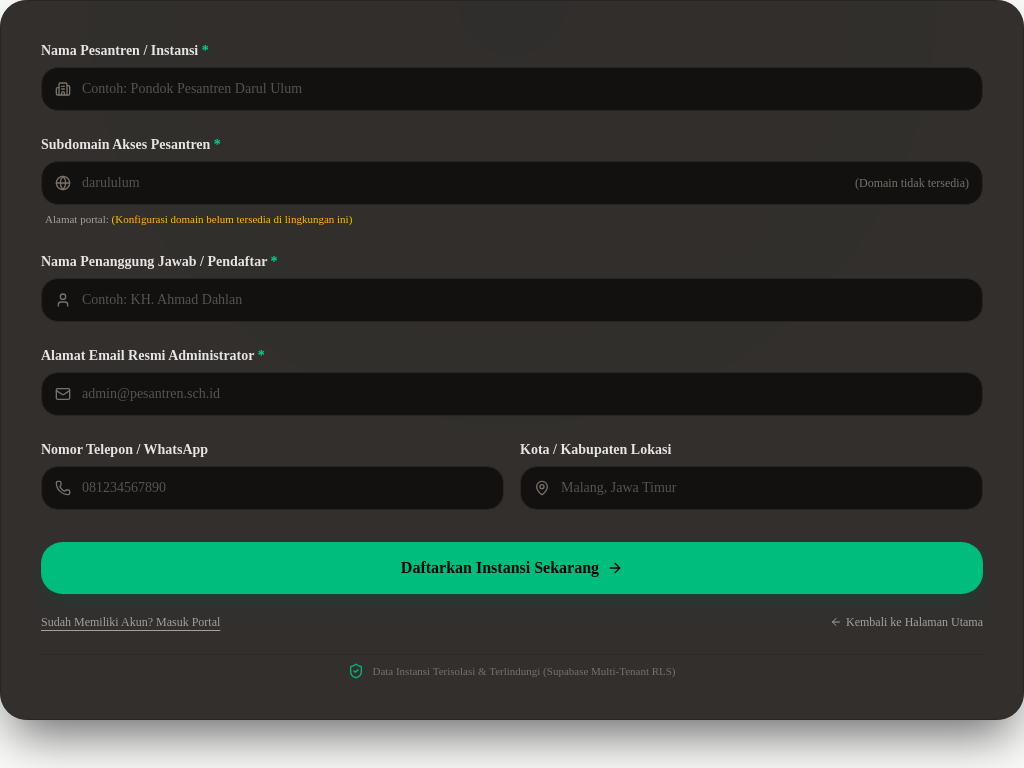
Scenario: WP-SAAS-REGISTRATION-IMPLEMENTATION-001 — Mobile-First Registration UI Tests › 4. Displays error alert when server returns 409 Conflict (e.g. duplicate slug)
Type "Pesantren Al-Hikmah" into the field labelled "Nama Pesantren / Instansi *" at (512, 89), box [41, 67, 983, 111]
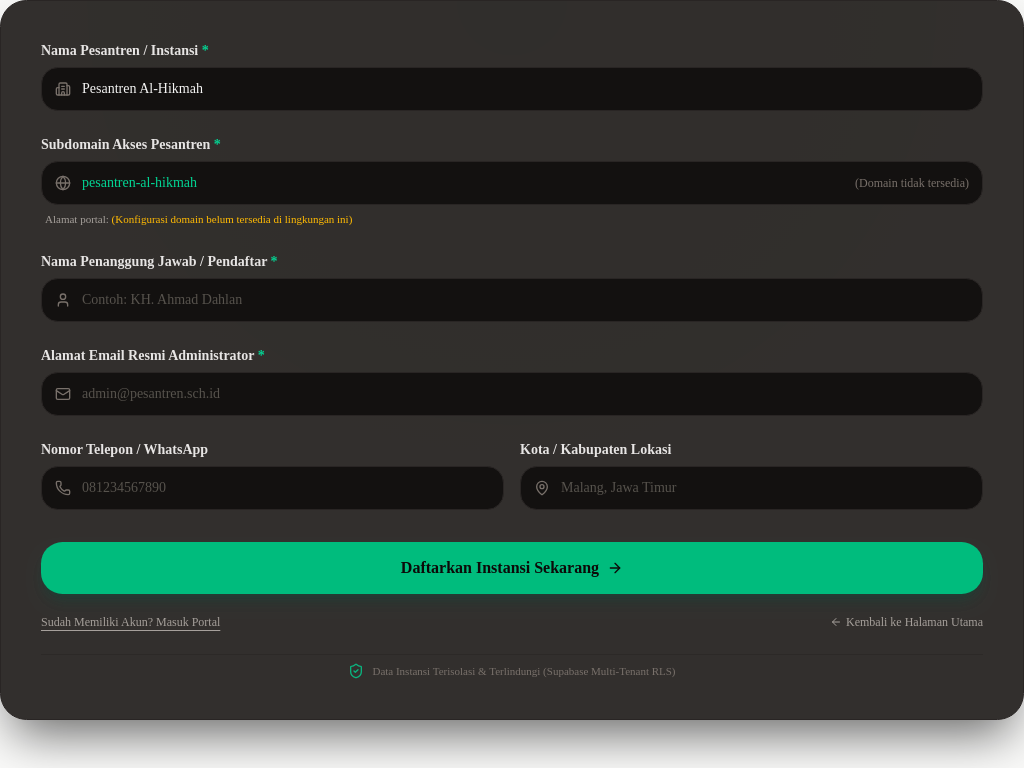
Replace the text in the field labelled "Subdomain Akses Pesantren *" with "alhikmah" at (512, 183), box [41, 161, 983, 205]
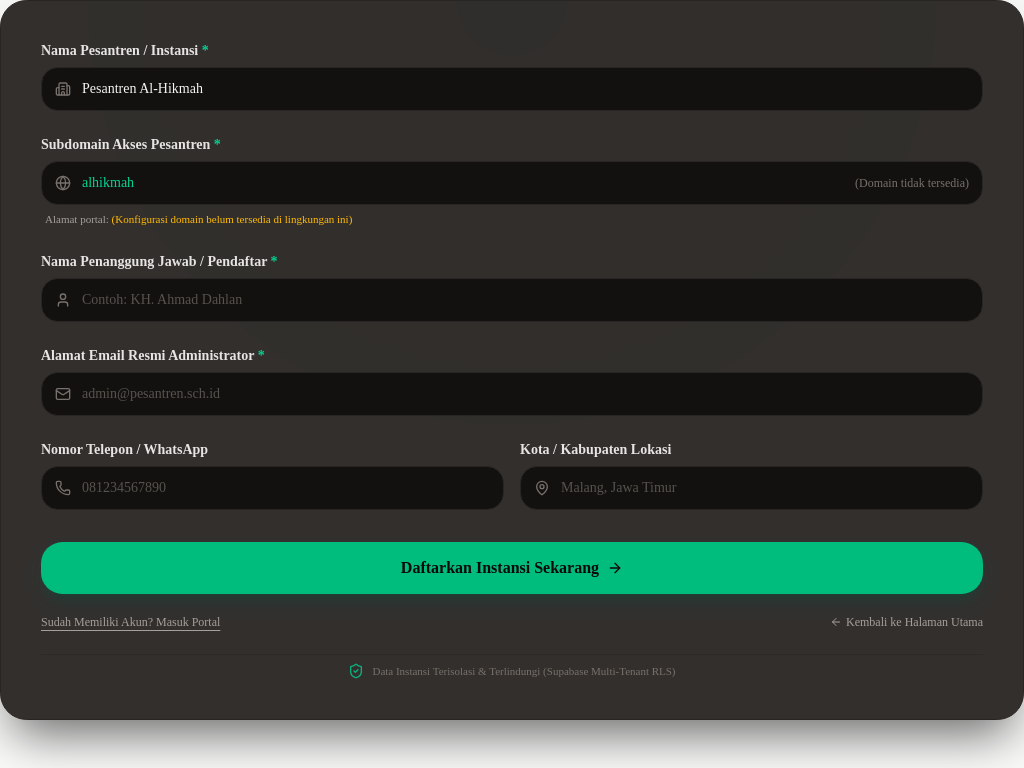
Type "Ustadz Ahmad" into the field labelled "Nama Penanggung Jawab / Pendaftar *" at (512, 300), box [41, 278, 983, 322]
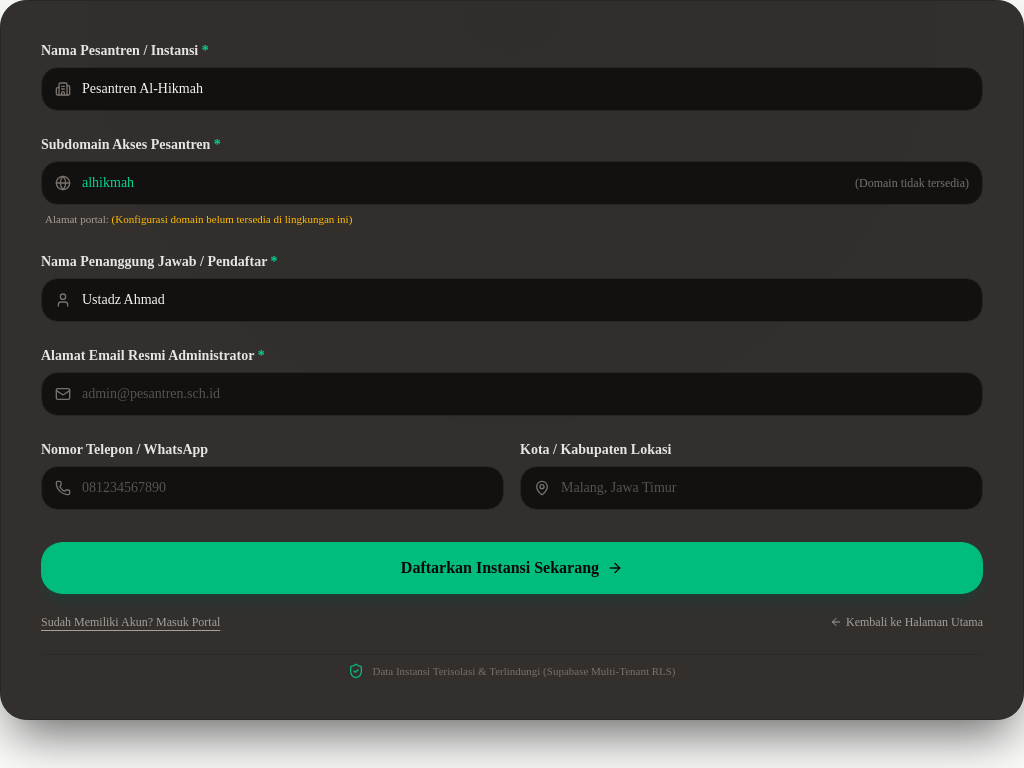
Type "admin@alhikmah.sch.id" into the field labelled "Alamat Email Resmi Administrator *" at (512, 394), box [41, 372, 983, 416]
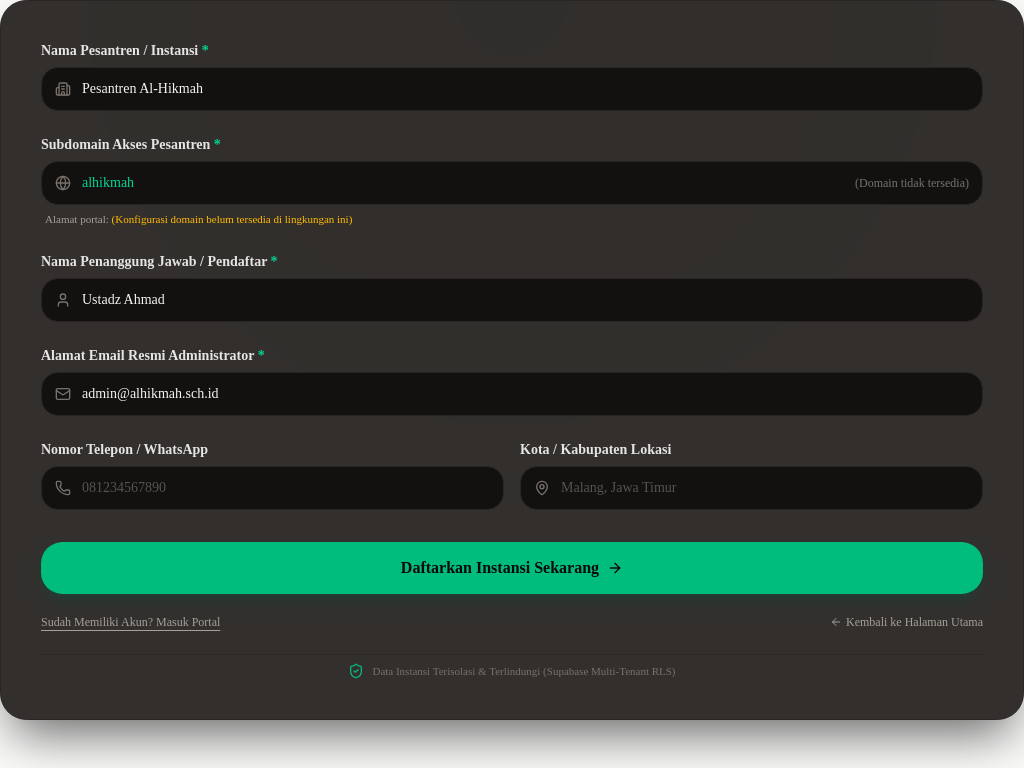
Click the button "Daftarkan Instansi Sekarang" at (512, 568), box [41, 542, 983, 594]
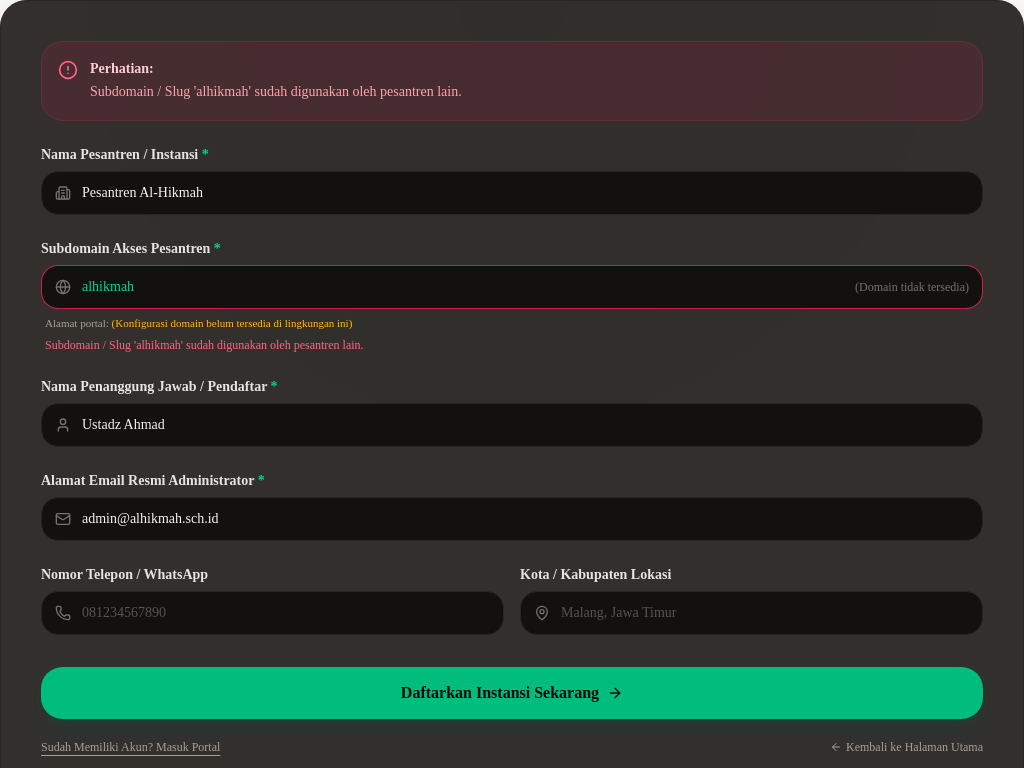
expect the message "Perhatian: Subdomain / Slug 'alhikmah' sudah digunakan oleh pesantren lain." is shown: met, box [41, 41, 983, 120]
